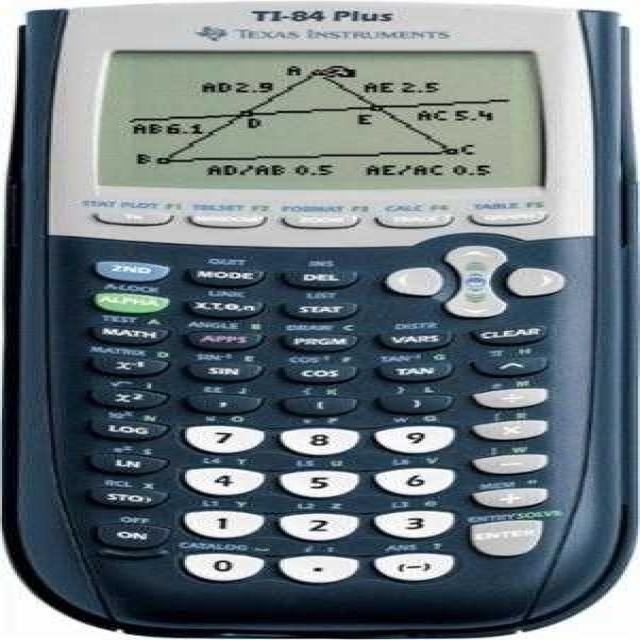Calculator: (2, 2, 634, 636)
